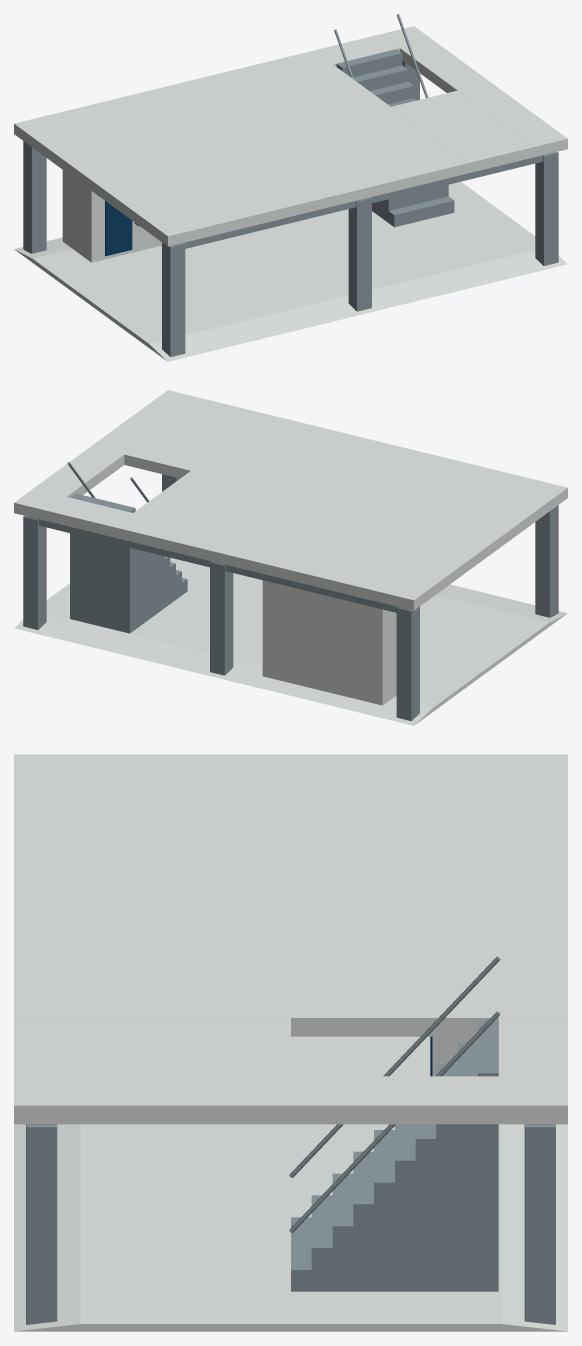
File: hdb_void_deck.glb
3 renders of one model, top to bottom at view 1: azimuth 30°, elevation 25°; view 2: azimuth 150°, elevation 25°; view 3: azimuth 270°, elevation 25°, orthographic. The views are drawn at different scales.
Visible parts, largest first — view 1: hdb_void_deck; view 2: hdb_void_deck; view 3: hdb_void_deck.
Part boxes in pixels (left/top/right/bottom): hdb_void_deck: left=14, top=14, right=567, bottom=361; hdb_void_deck: left=14, top=390, right=567, bottom=725; hdb_void_deck: left=14, top=754, right=567, bottom=1331.
Bounding box in the file's own units: 12 × 4.6 × 8.
